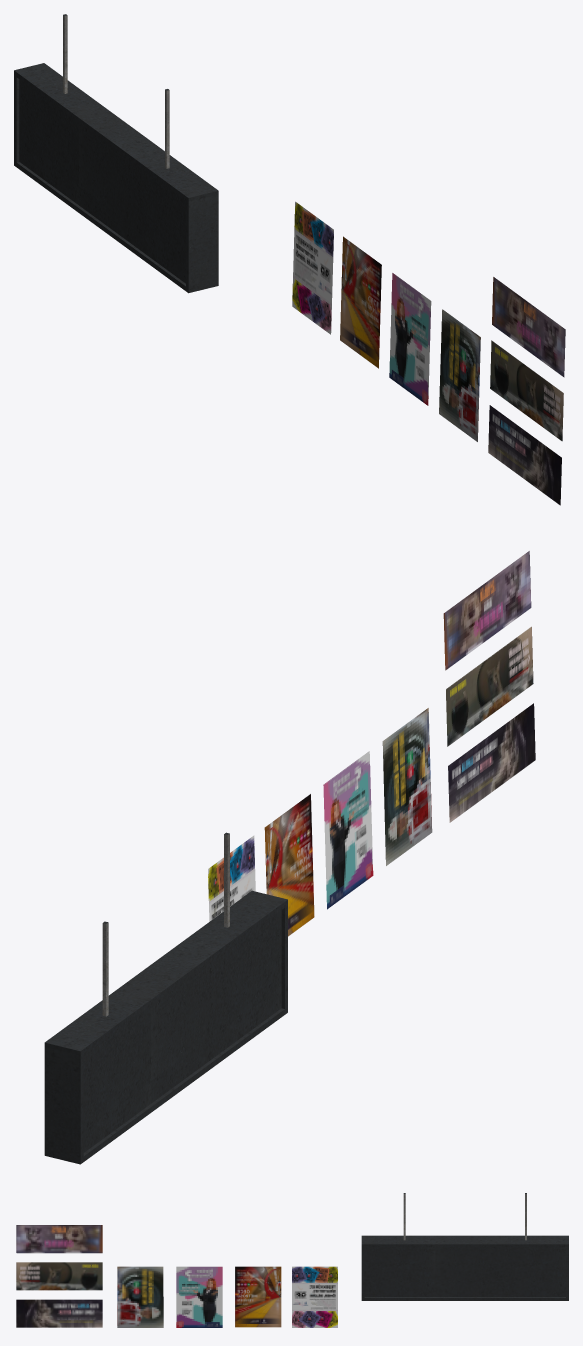
File: Tabelas ve Posters.fbx
3 views of the same model, one above another, from view 1: azimuth 30°, elevation 25°; view 2: azimuth 150°, elevation 25°; view 3: azimuth 270°, elevation 25° (orthographic). The views are drawn at different scales.
Parts seen in each view (by area): view 1: Cube.004, Poster 1, Poster 3, Poster 4, Poster 2, Poster 6, Poster 5, Poster 6.001; view 2: Cube.004, Poster 3, Poster 4, Poster 6, Poster 5, Poster 6.001, Poster 2, Poster 1; view 3: Cube.004, Poster 3, Poster 4, Poster 2, Poster 1, Poster 6, Poster 6.001, Poster 5.
Boxes of the visible parts, bbox=[...] form: Cube.004: bbox=[14, 14, 218, 293]; Poster 1: bbox=[292, 201, 333, 334]; Poster 3: bbox=[389, 273, 431, 405]; Poster 4: bbox=[439, 309, 480, 441]; Poster 2: bbox=[340, 236, 381, 368]; Poster 6: bbox=[490, 340, 563, 441]; Poster 5: bbox=[492, 277, 565, 377]; Poster 6.001: bbox=[488, 405, 561, 505]; Cube.004: bbox=[44, 832, 287, 1164]; Poster 3: bbox=[323, 751, 373, 909]; Poster 4: bbox=[382, 708, 432, 865]; Poster 6: bbox=[446, 626, 533, 746]; Poster 5: bbox=[443, 551, 531, 670]; Poster 6.001: bbox=[448, 703, 535, 822]; Poster 2: bbox=[264, 794, 314, 936]; Poster 1: bbox=[208, 835, 255, 921]; Cube.004: bbox=[361, 1193, 568, 1300]; Poster 3: bbox=[176, 1266, 222, 1327]; Poster 4: bbox=[117, 1266, 163, 1327]; Poster 2: bbox=[235, 1266, 281, 1327]; Poster 1: bbox=[292, 1266, 337, 1327]; Poster 6: bbox=[16, 1262, 102, 1290]; Poster 6.001: bbox=[16, 1299, 102, 1327]; Poster 5: bbox=[16, 1225, 102, 1253].
Size of the model in its own units: 584 by 1264 by 5351.
3 materials, 3 textured.
